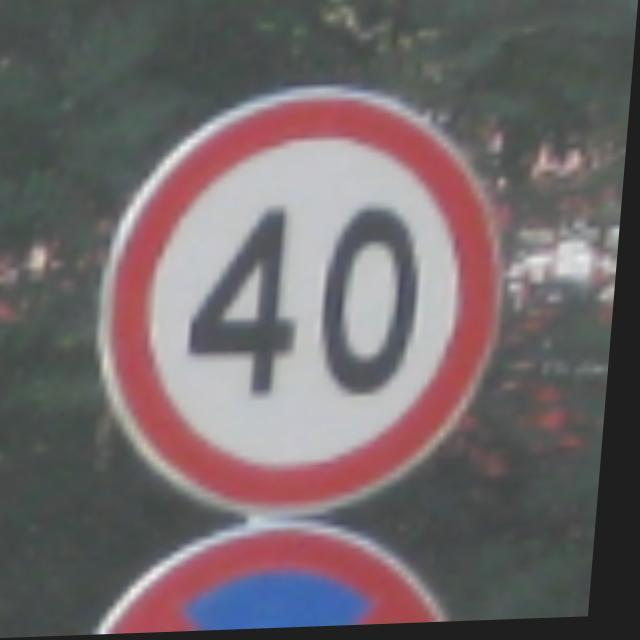limit40: (76, 71, 542, 534)
